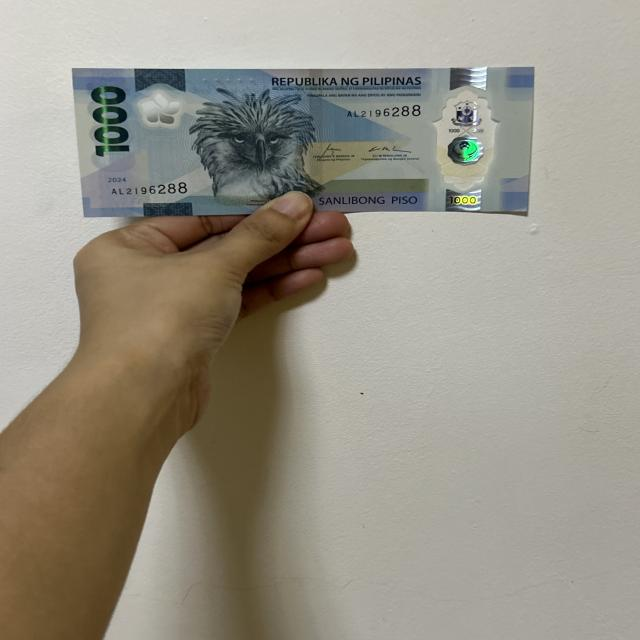clear_window: (432, 88, 498, 196)
eagle: (204, 88, 307, 208)
sampaguita: (141, 90, 181, 128)
serial_number: (102, 180, 208, 201), (337, 100, 445, 120)
